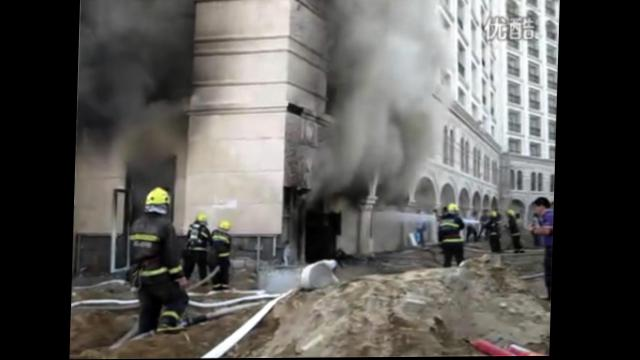smoke: (77, 0, 188, 126), (333, 0, 450, 109), (323, 107, 438, 190), (124, 127, 182, 197)
